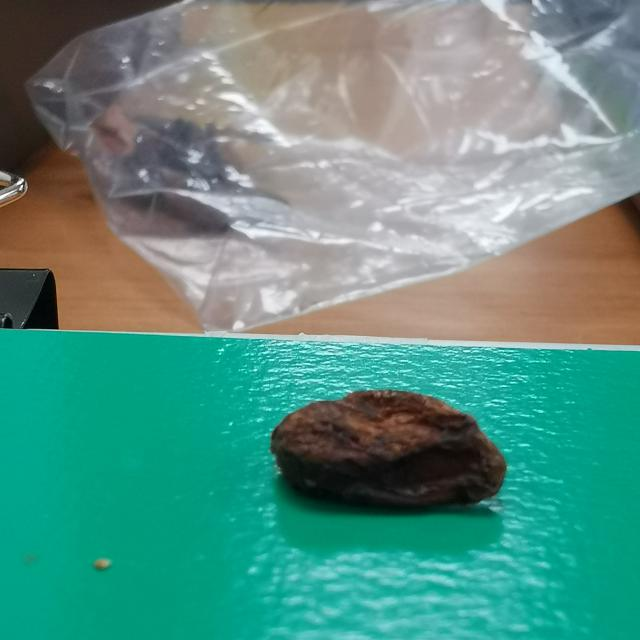Flat_cocoabeans: (195, 370, 596, 552)
